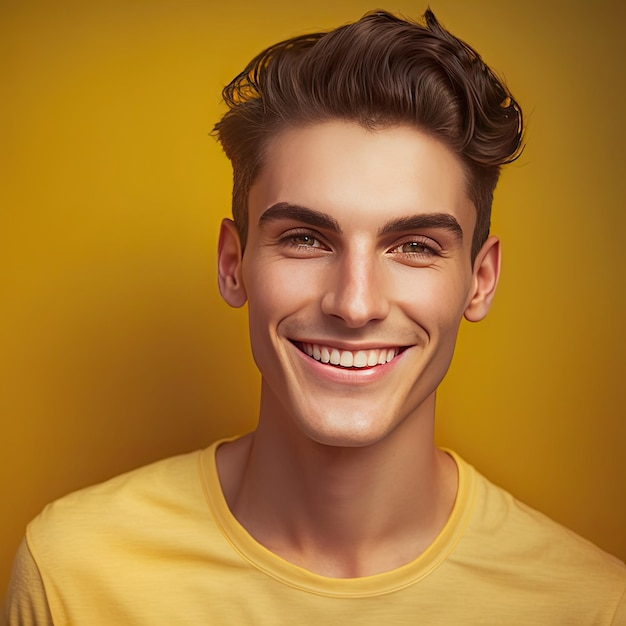young: (196, 31, 537, 451)
